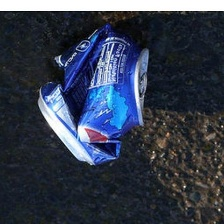can: (34, 20, 161, 169)
